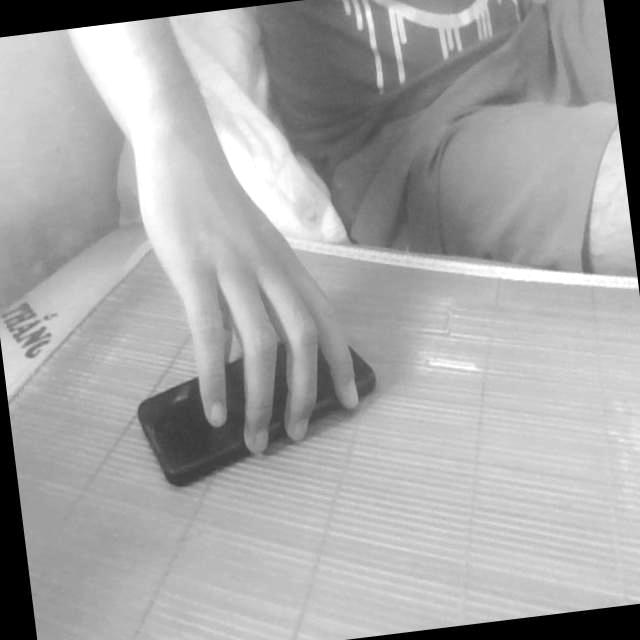phone: (115, 292, 401, 508)
